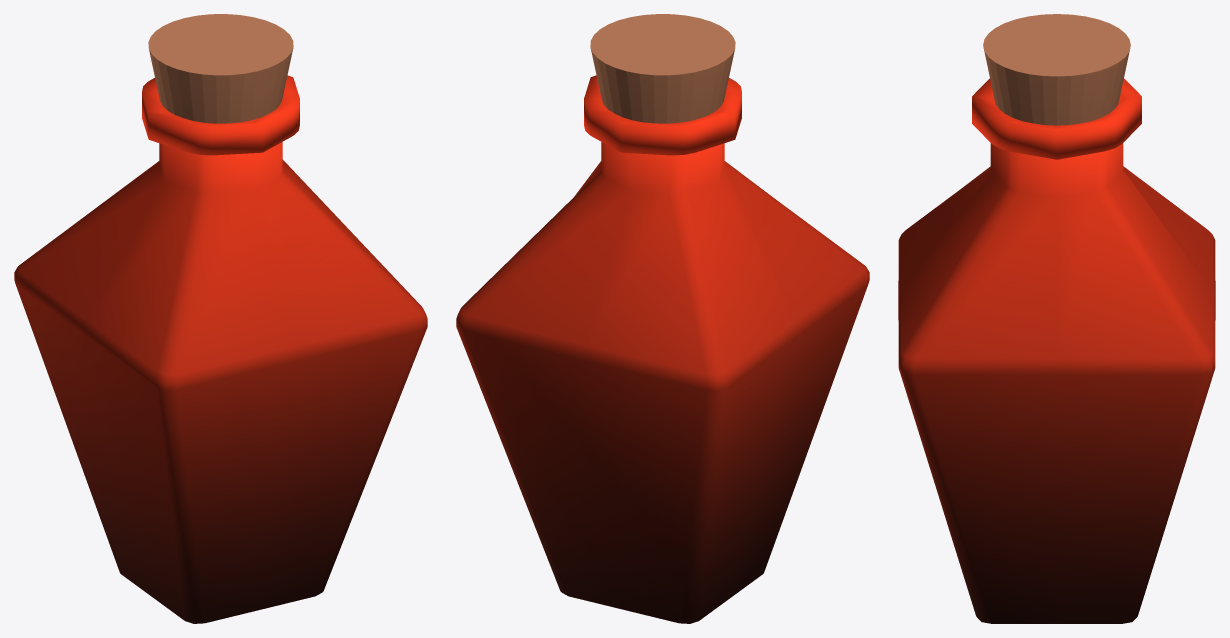
The model's file is Potion_vie.fbx.
The picture shows the model from 3 angles, left to right: view 1: azimuth 30°, elevation 25°; view 2: azimuth 150°, elevation 25°; view 3: azimuth 270°, elevation 25°; orthographic projection.
Parts seen in each view (by area): view 1: Cube; view 2: Cube; view 3: Cube.
Boxes of the visible parts, x1=… form: Cube: x1=14, y1=14, x2=427, y2=623; Cube: x1=456, y1=14, x2=869, y2=623; Cube: x1=898, y1=14, x2=1215, y2=623.
Bounding box in the file's own units: 198 × 375 × 198.
1 material, 1 textured.
